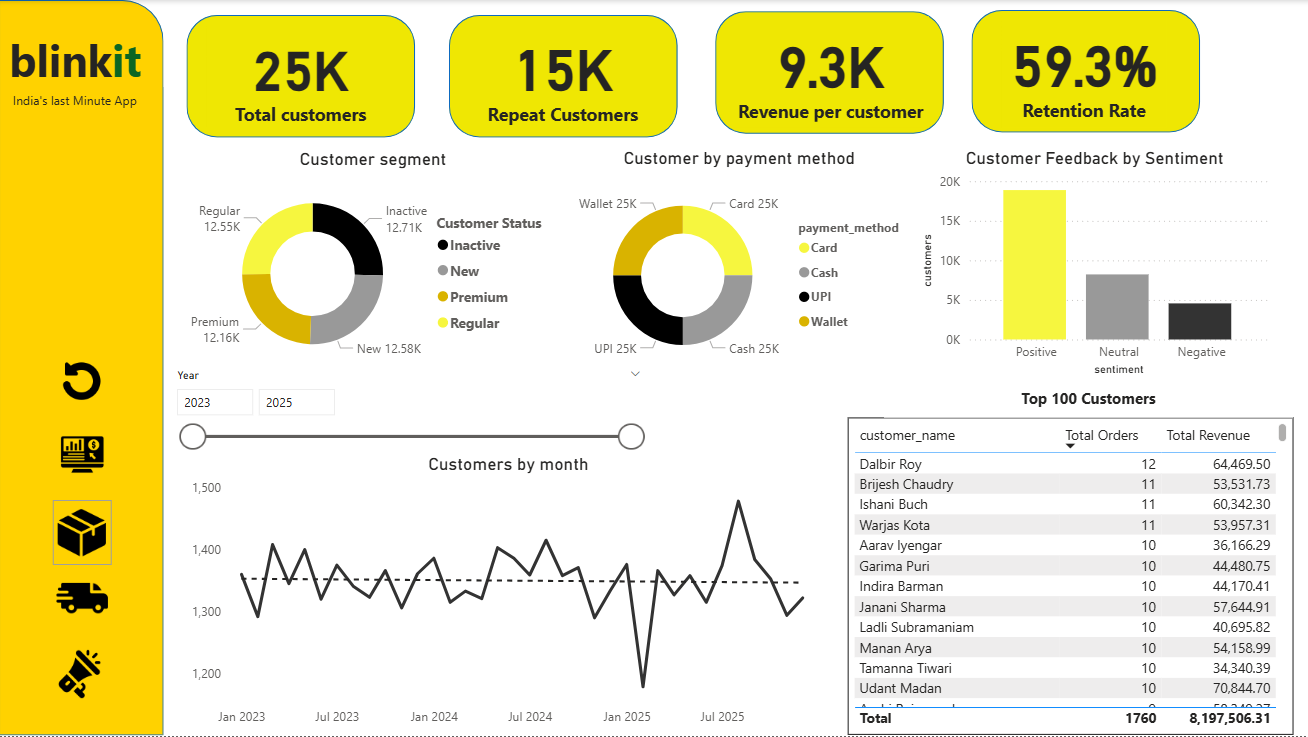

What the dashboard file says about the page in this screenshot:
{"tool":"powerbi","page":{"name":"Customer","canvas":[1280,720],"ordinal":2},"visuals":[{"type":"shape","box":[0,0,161,719.5],"z":0},{"type":"textbox","box":[0,24.7,149.4,76.6],"z":1000},{"type":"shape","box":[166.2,11.2,212.5,118.8],"z":2000},{"type":"card","fields":{"Values":[" Measure table.Total customers"]},"box":[185,23.8,183.8,97.5],"z":3000},{"type":"shape","box":[390,11.2,223.8,118.8],"z":4000},{"type":"card","fields":{"Values":[" Measure table.Repeat Customers"]},"box":[411.2,13.8,181.2,111.2],"z":5000},{"type":"shape","box":[620,11.2,223.8,120],"z":6000},{"type":"card","fields":{"Values":[" Measure table.Revenue per customer"]},"box":[635,13.8,192.5,108.8],"z":7000},{"type":"shape","box":[848.8,13.8,223.8,120],"z":8000},{"type":"card","fields":{"Values":[" Measure table.Retention Rate"]},"box":[878.8,11.2,161.2,111.2],"z":9000},{"type":"clusteredColumnChart","title":"Customer Feedback by Sentiment","fields":{"Category":["Master_table.sentiment"],"Y":["Count(Master_table.customer_id)"]},"box":[827.5,142.5,440,228.8],"z":10000},{"type":"lineChart","title":"Customers by month","fields":{"Y":["Count(Master_table.customer_id)"],"Category":["Calendar.Date.Variation.Date Hierarchy.Year","Calendar.Date.Variation.Date Hierarchy.Quarter","Calendar.Date.Variation.Date Hierarchy.Month"]},"box":[166.2,133.8,661.2,276.2],"z":11000},{"type":"clusteredBarChart","fields":{"Category":["Customer.customer_name"],"Y":["Measure table.Total Revenue"]},"box":[848.8,418.8,418.8,300],"z":12000},{"type":"donutChart","title":"Customer by payment method","fields":{"Category":["Master_table.payment_method"],"Y":["Measure table.Total customers"]},"box":[482.5,418.8,345,295],"z":13000},{"type":"textbox","box":[866,374,400,34],"z":14000},{"type":"donutChart","title":"Customer segment","fields":{"Category":["Customer.Customer Status"],"Y":["CountNonNull(Master_table.customer_id)"]},"box":[161.2,418.8,321.2,295],"z":15000},{"type":"slicer","fields":{"Values":["Calendar.Year"]},"box":[1087.5,2.5,180,70],"z":16000},{"type":"image","box":[32,418.2,99.7,53.4],"z":17000},{"type":"image","box":[43.4,630.4,71.7,56.6],"z":18000},{"type":"image","box":[52.8,488.8,56.6,64.2],"z":19000},{"type":"image","box":[51,553,60.4,64.2],"z":20000},{"type":"image","box":[50.5,346.5,60.9,54],"z":21000},{"type":"textbox","box":[8.9,83.6,144.2,33.8],"z":22000},{"type":"slicer","fields":{"Values":["TopN option.option"]},"box":[848.8,371.2,418.8,47.5],"z":23000},{"type":"slicer","fields":{"Values":["Customer.customer_segment"]},"box":[1087.5,67.5,192.5,71.2],"z":24000}]}

Visuals, with their boxes in screenshot pixels (x1, y1, x2, y2), scaled from the page's 1280x720 canvas onto the 1308x737 screenshot:
shape: 0, 0, 165, 736
textbox: 0, 25, 153, 104
shape: 170, 11, 387, 133
card -  Measure table.Total customers: 189, 24, 377, 124
shape: 399, 11, 627, 133
card -  Measure table.Repeat Customers: 420, 14, 605, 128
shape: 634, 11, 862, 134
card -  Measure table.Revenue per customer: 649, 14, 846, 125
shape: 867, 14, 1096, 137
card -  Measure table.Retention Rate: 898, 11, 1063, 125
"Customer Feedback by Sentiment" clusteredColumnChart: 846, 146, 1295, 380
"Customers by month" lineChart: 170, 137, 845, 420
clusteredBarChart - Customer.customer_name x Measure table.Total Revenue: 867, 429, 1295, 736
"Customer by payment method" donutChart: 493, 429, 846, 731
textbox: 885, 383, 1294, 418
"Customer segment" donutChart: 165, 429, 493, 731
slicer - Calendar.Year: 1111, 3, 1295, 74
image: 33, 428, 135, 483
image: 44, 645, 118, 703
image: 54, 500, 112, 566
image: 52, 566, 114, 632
image: 52, 355, 114, 410
textbox: 9, 86, 156, 120
slicer - TopN option.option: 867, 380, 1295, 429
slicer - Customer.customer_segment: 1111, 69, 1307, 142
